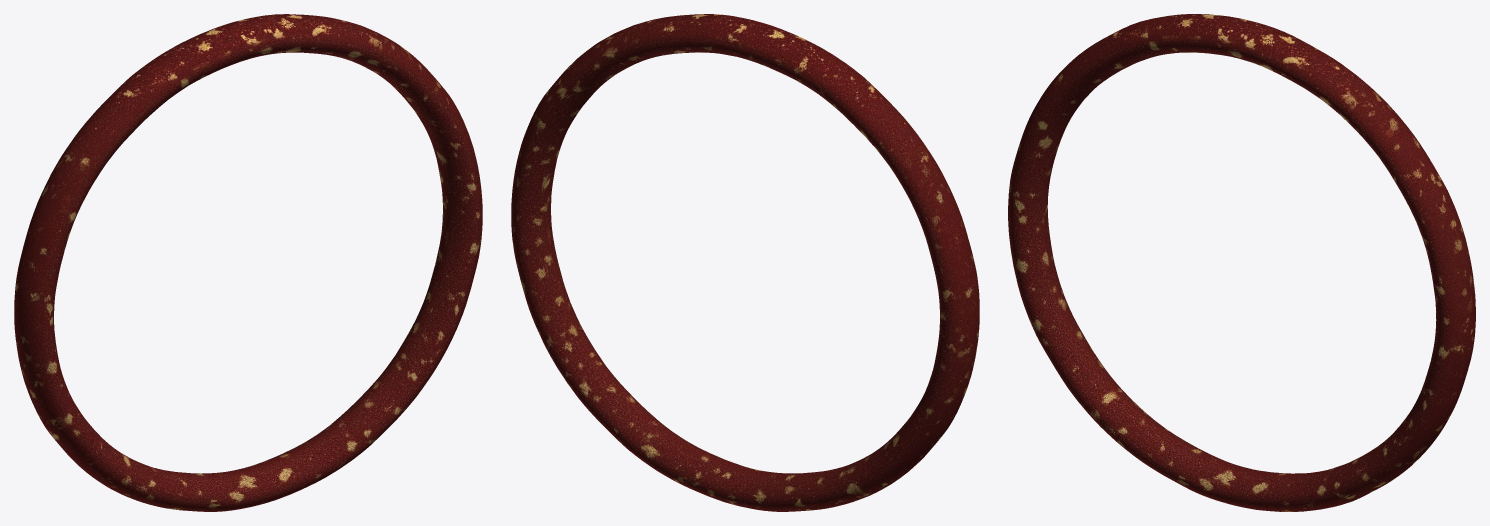
File: ring_lacquer.glb
3 renders of one model, left to right at view 1: azimuth 30°, elevation 25°; view 2: azimuth 150°, elevation 25°; view 3: azimuth 330°, elevation 25°, orthographic.
Parts seen in each view (by area): view 1: Mesh_0; view 2: Mesh_0; view 3: Mesh_0.
Part boxes in pixels (x1,y1,x2,y2): Mesh_0: (14, 14, 482, 511); Mesh_0: (511, 14, 979, 511); Mesh_0: (1008, 14, 1475, 511).
Bounding box in the file's own units: 2.15 × 2.15 × 0.2071.
Materials: 1 (1 with a texture image).
